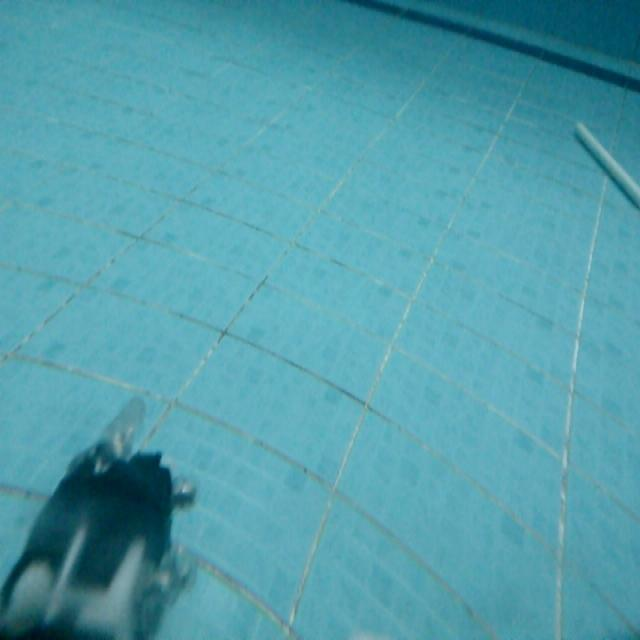Cube: (571, 112, 640, 213)
